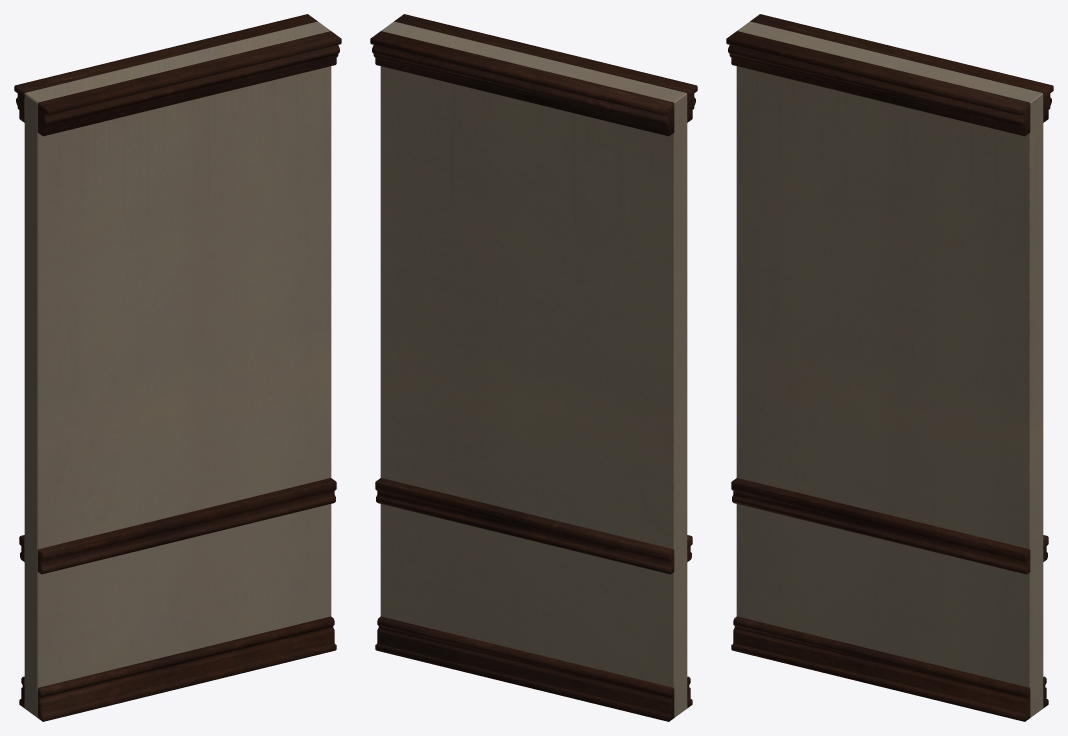
The model's file is SK1 WALL1 INT.fbx.
The picture shows the model from 3 angles, left to right: view 1: azimuth 30°, elevation 25°; view 2: azimuth 150°, elevation 25°; view 3: azimuth 330°, elevation 25°; orthographic projection.
Parts seen in each view (by area): view 1: SK1 WALL1 INT; view 2: SK1 WALL1 INT; view 3: SK1 WALL1 INT.
Part boxes in pixels (box(x1,y1,x2,y2)): SK1 WALL1 INT: box(14, 14, 341, 721); SK1 WALL1 INT: box(370, 14, 697, 721); SK1 WALL1 INT: box(726, 14, 1053, 721).
Size of the model in its own units: 200 by 400 by 39.93.
